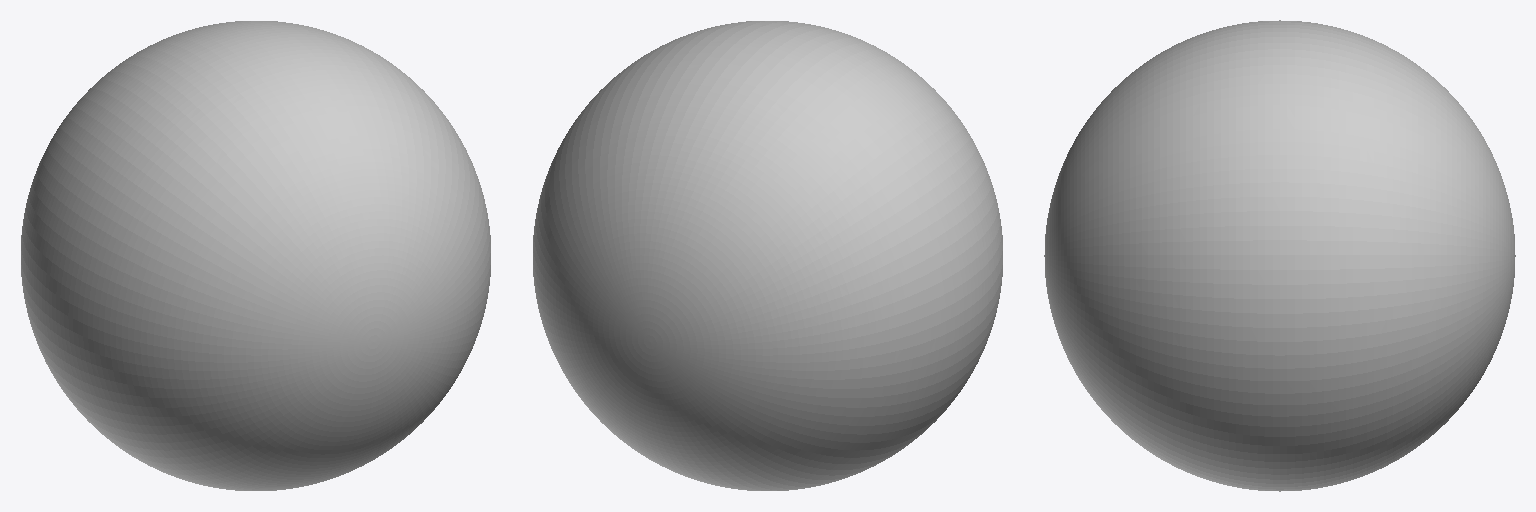
The model's file is Jupiter.obj.
The picture shows the model from 3 angles: view 1: azimuth 30°, elevation 25°; view 2: azimuth 150°, elevation 25°; view 3: azimuth 270°, elevation 25°; orthographic projection.
Visible parts, largest first — view 1: node_id67; view 2: node_id67; view 3: node_id67.
Part boxes in pixels (left/top/right/bottom): node_id67: left=21, top=21, right=490, bottom=490; node_id67: left=533, top=21, right=1002, bottom=490; node_id67: left=1044, top=20, right=1515, bottom=491.
Size of the model in its own units: 0.1045 by 0.1045 by 0.1045.